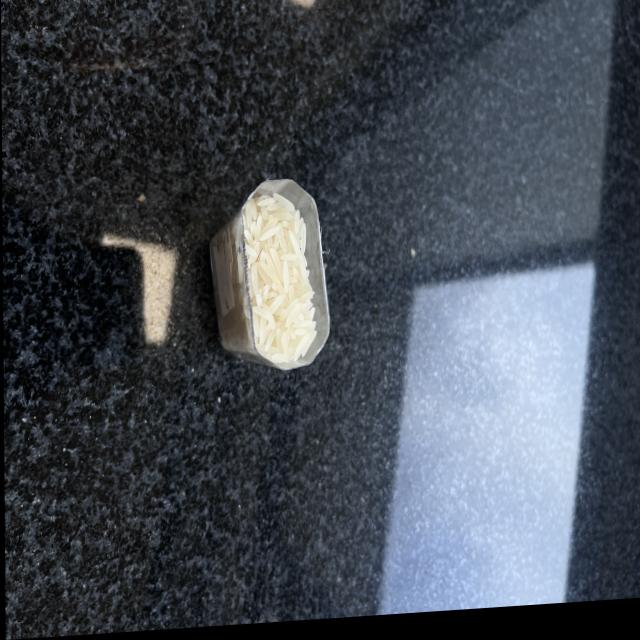raw_rice: (209, 191, 315, 376)
